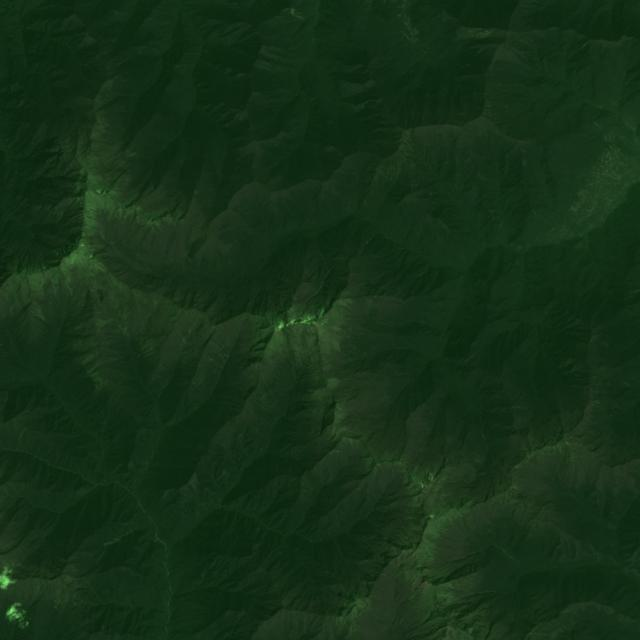landslides: (219, 383, 251, 394), (32, 300, 48, 321), (205, 354, 221, 368), (216, 338, 229, 355), (138, 350, 158, 360), (258, 418, 273, 431), (184, 311, 196, 325), (192, 381, 203, 395), (209, 341, 223, 351), (0, 288, 8, 303)
